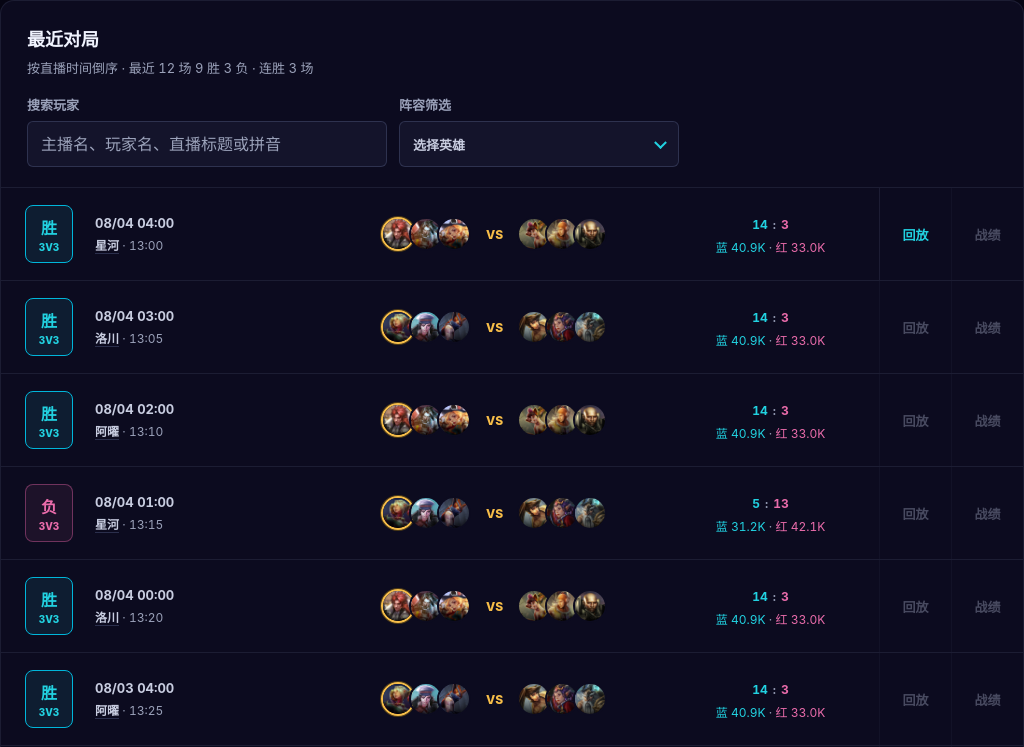
Test: MatchExplorerComponent › opens one accessible match detail dialog from a row
What coordinates should you click on to do the following:
click the button named "08/04 04:00，3V3，胜利，查看对局详情"
I would click on:
 (440, 234)
Its box is [1, 188, 879, 280].
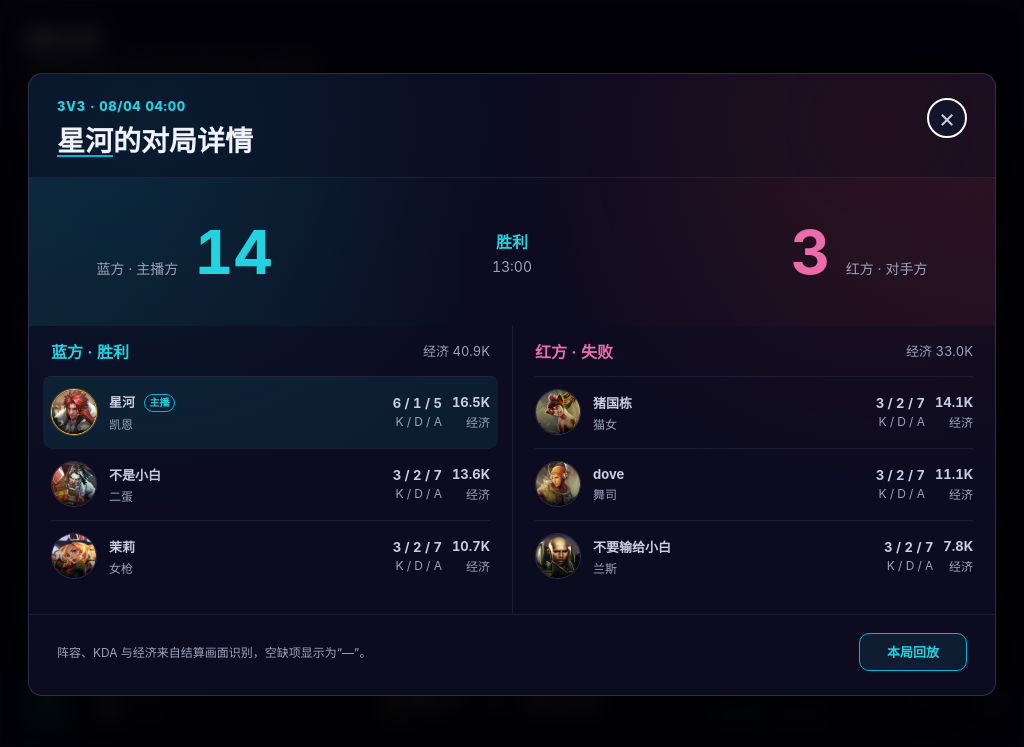
Check: the dialog is shown
Check: the dialog shows "对局详情", box [113, 124, 253, 158]
